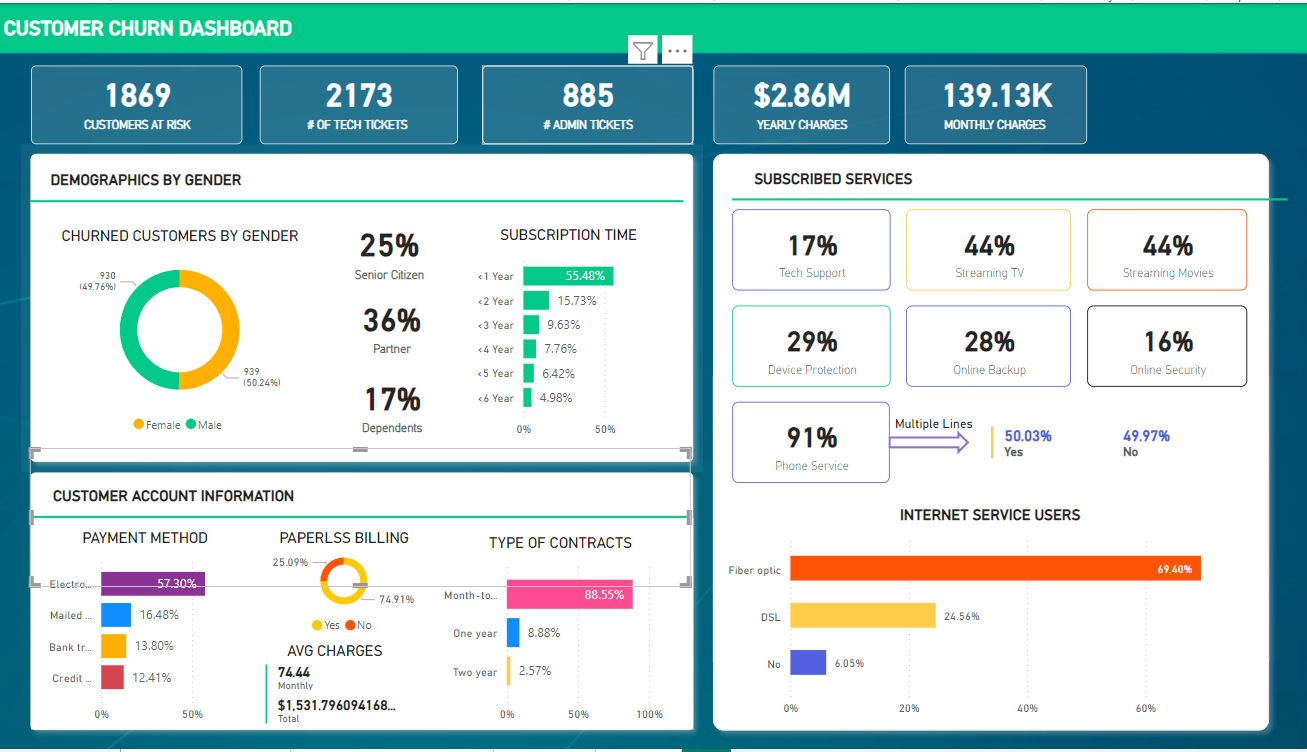

This screenshot's page, from the dashboard's own definition file:
{"tool":"powerbi","page":{"name":"Churn Dashboard","canvas":[1280,720],"ordinal":0},"visuals":[{"type":"shape","box":[0,0,1280,49],"z":0},{"type":"shape","box":[34,136,658,316],"z":0,"group":"g1"},{"type":"card","fields":{"Values":["Churn.% Tech Support"]},"box":[720,199,152.4,78.4],"z":0,"group":"g4"},{"type":"shape","box":[692,136,555,575],"z":1000},{"type":"card","fields":{"Values":["Churn.% Streaming TV"]},"box":[887.4,199,159.5,78.4],"z":1000,"group":"g4"},{"type":"donutChart","title":"CHURNED CUSTOMERS BY GENDER","fields":{"Category":["01 Churn-Dataset.gender"],"Y":["CountNonNull(01 Churn-Dataset.gender)"]},"box":[61.1,204.4,252.2,223.4],"z":1000,"group":"g1"},{"type":"shape","box":[720.2,123.1,536,133],"z":1500,"group":"g3"},{"type":"shape","box":[42,430,636.8,133],"z":1500,"group":"g2"},{"type":"textbox","box":[12,8,438,33],"z":2000},{"type":"textbox","box":[722,145.1,522.6,38],"z":2000,"group":"g3"},{"type":"textbox","box":[42.7,146.1,630.9,47.3],"z":2000,"group":"g1"},{"type":"card","fields":{"Values":["Churn.% Streaming Movies"]},"box":[1062.8,199,154.2,78.4],"z":2000,"group":"g4"},{"type":"textbox","box":[44.2,452,636.8,38],"z":2000,"group":"g2"},{"type":"card","fields":{"Values":["Churn.% of Senior Citizen"]},"box":[330.5,204.4,118,77.5],"z":3000,"group":"g1"},{"type":"card","fields":{"Values":["Churn.% Device Protection"]},"box":[720,291.6,152.4,78.4],"z":3000,"group":"g4"},{"type":"shape","box":[34,444,658,267],"z":3000},{"type":"card","fields":{"Values":["CountNonNull(01 Churn-Dataset.customerID)"]},"box":[44,60,204,76],"z":4000},{"type":"card","fields":{"Values":["Churn.% of partner"]},"box":[329.5,278.9,125.5,74.5],"z":4000,"group":"g1"},{"type":"card","fields":{"Values":["Churn.% Online Backup"]},"box":[887.4,291.6,159.5,78.4],"z":4000,"group":"g4"},{"type":"shape","box":[42.7,151.1,630.9,78.5],"z":5000,"group":"g1"},{"type":"card","fields":{"Values":["Churn.% Online Sec"]},"box":[1062.8,291.6,154.2,78.4],"z":5000,"group":"g4"},{"type":"card","fields":{"Values":["Churn.% Phone Service"]},"box":[720,385,152,78],"z":5000},{"type":"card","fields":{"Values":["Sum(01 Churn-Dataset.numTechTickets)"]},"box":[264,60,191,76],"z":6000},{"type":"card","fields":{"Values":["Churn.% of Dependents"]},"box":[329.5,351.4,125.5,79.5],"z":6000,"group":"g1"},{"type":"clusteredBarChart","title":"SUBSCRIPTION TIME","fields":{"Y":["CountNonNull(Churn.Churn)"],"Category":["Churn.Tenure(in years)"]},"box":[466.9,204.4,190.5,220.4],"z":7000,"group":"g1"},{"type":"clusteredBarChart","title":"PAYMENT METHOD","fields":{"Y":["CountNonNull(Churn.PaymentMethod)"],"Category":["Churn.PaymentMethod"]},"box":[44,497,220,204],"z":7000},{"type":"card","fields":{"Values":["Sum(01 Churn-Dataset.TotalCharges)"]},"box":[702,60,170,76],"z":8000},{"type":"card","fields":{"Values":["Sum(01 Churn-Dataset.numAdminTickets)"]},"box":[479,60,204,76],"z":9000},{"type":"group","id":"g1","title":"Group 1","box":[34,136,658,316],"z":10000},{"type":"card","fields":{"Values":["Sum(01 Churn-Dataset.MonthlyCharges)"]},"box":[887,60,176,76],"z":11000},{"type":"donutChart","title":"PAPERLSS BILLING","fields":{"Category":["Churn.PaperlessBilling"],"Y":["CountNonNull(Churn.PaperlessBilling)"]},"box":[248,497,194,126],"z":12000},{"type":"multiRowCard","title":"AVG CHARGES","fields":{"Values":["Avg(Churn.MonthlyCharges)","Avg(Churn.TotalCharges)"]},"box":[264,606,143,95],"z":13000},{"type":"clusteredBarChart","title":"TYPE OF CONTRACTS","fields":{"Category":["Churn.Contract"],"Y":["CountNonNull(Churn.Contract)"]},"box":[426,497,257,204],"z":14000},{"type":"group","id":"g2","title":"Group 2","box":[42,430,639,133],"z":15000},{"type":"group","id":"g3","title":"Group 2","box":[720.2,123.1,535.7,132.7],"z":16000},{"type":"group","id":"g4","title":"Group 3","box":[720,199,497,171],"z":17000},{"type":"shape","box":[871,412,78,23],"z":18000},{"type":"textbox","box":[872,391,300,30],"z":19000},{"type":"multiRowCard","fields":{"Values":["Churn.% Yes-Multiple Lines","Churn.% No-Multiple Lines"]},"box":[965,404,252,53],"z":20000},{"type":"barChart","title":"INTERNET SERVICE USERS","fields":{"Y":["CountNonNull(Churn.InternetService)"],"Category":["Churn.InternetService"]},"box":[710,471,517,230],"z":21000}]}

Visuals, with their boxes in screenshot pixels (x1, y1, x2, y2), scaled from the page's 1280x720 canvas onto the 1307x752 screenshot:
shape: left=0, top=0, right=1306, bottom=51
shape: left=35, top=142, right=707, bottom=472
card - Churn.% Tech Support: left=735, top=208, right=891, bottom=290
shape: left=707, top=142, right=1273, bottom=743
card - Churn.% Streaming TV: left=906, top=208, right=1069, bottom=290
"CHURNED CUSTOMERS BY GENDER" donutChart: left=62, top=213, right=320, bottom=447
shape: left=735, top=129, right=1283, bottom=267
shape: left=43, top=449, right=693, bottom=588
textbox: left=12, top=8, right=459, bottom=43
textbox: left=737, top=152, right=1271, bottom=191
textbox: left=44, top=153, right=688, bottom=202
card - Churn.% Streaming Movies: left=1085, top=208, right=1243, bottom=290
textbox: left=45, top=472, right=695, bottom=512
card - Churn.% of Senior Citizen: left=337, top=213, right=458, bottom=294
card - Churn.% Device Protection: left=735, top=305, right=891, bottom=386
shape: left=35, top=464, right=707, bottom=743
card - CountNonNull(01 Churn-Dataset.customerID): left=45, top=63, right=253, bottom=142
card - Churn.% of partner: left=336, top=291, right=465, bottom=369
card - Churn.% Online Backup: left=906, top=305, right=1069, bottom=386
shape: left=44, top=158, right=688, bottom=240
card - Churn.% Online Sec: left=1085, top=305, right=1243, bottom=386
card - Churn.% Phone Service: left=735, top=402, right=890, bottom=484
card - Sum(01 Churn-Dataset.numTechTickets): left=270, top=63, right=465, bottom=142
card - Churn.% of Dependents: left=336, top=367, right=465, bottom=450
"SUBSCRIPTION TIME" clusteredBarChart: left=477, top=213, right=671, bottom=444
"PAYMENT METHOD" clusteredBarChart: left=45, top=519, right=270, bottom=732
card - Sum(01 Churn-Dataset.TotalCharges): left=717, top=63, right=890, bottom=142
card - Sum(01 Churn-Dataset.numAdminTickets): left=489, top=63, right=697, bottom=142
"Group 1" group: left=35, top=142, right=707, bottom=472
card - Sum(01 Churn-Dataset.MonthlyCharges): left=906, top=63, right=1085, bottom=142
"PAPERLSS BILLING" donutChart: left=253, top=519, right=451, bottom=651
"AVG CHARGES" multiRowCard: left=270, top=633, right=416, bottom=732
"TYPE OF CONTRACTS" clusteredBarChart: left=435, top=519, right=697, bottom=732
"Group 2" group: left=43, top=449, right=695, bottom=588
"Group 2" group: left=735, top=129, right=1282, bottom=267
"Group 3" group: left=735, top=208, right=1243, bottom=386
shape: left=889, top=430, right=969, bottom=454
textbox: left=890, top=408, right=1197, bottom=440
multiRowCard - Churn.% Yes-Multiple Lines x Churn.% No-Multiple Lines: left=985, top=422, right=1243, bottom=477
"INTERNET SERVICE USERS" barChart: left=725, top=492, right=1253, bottom=732
